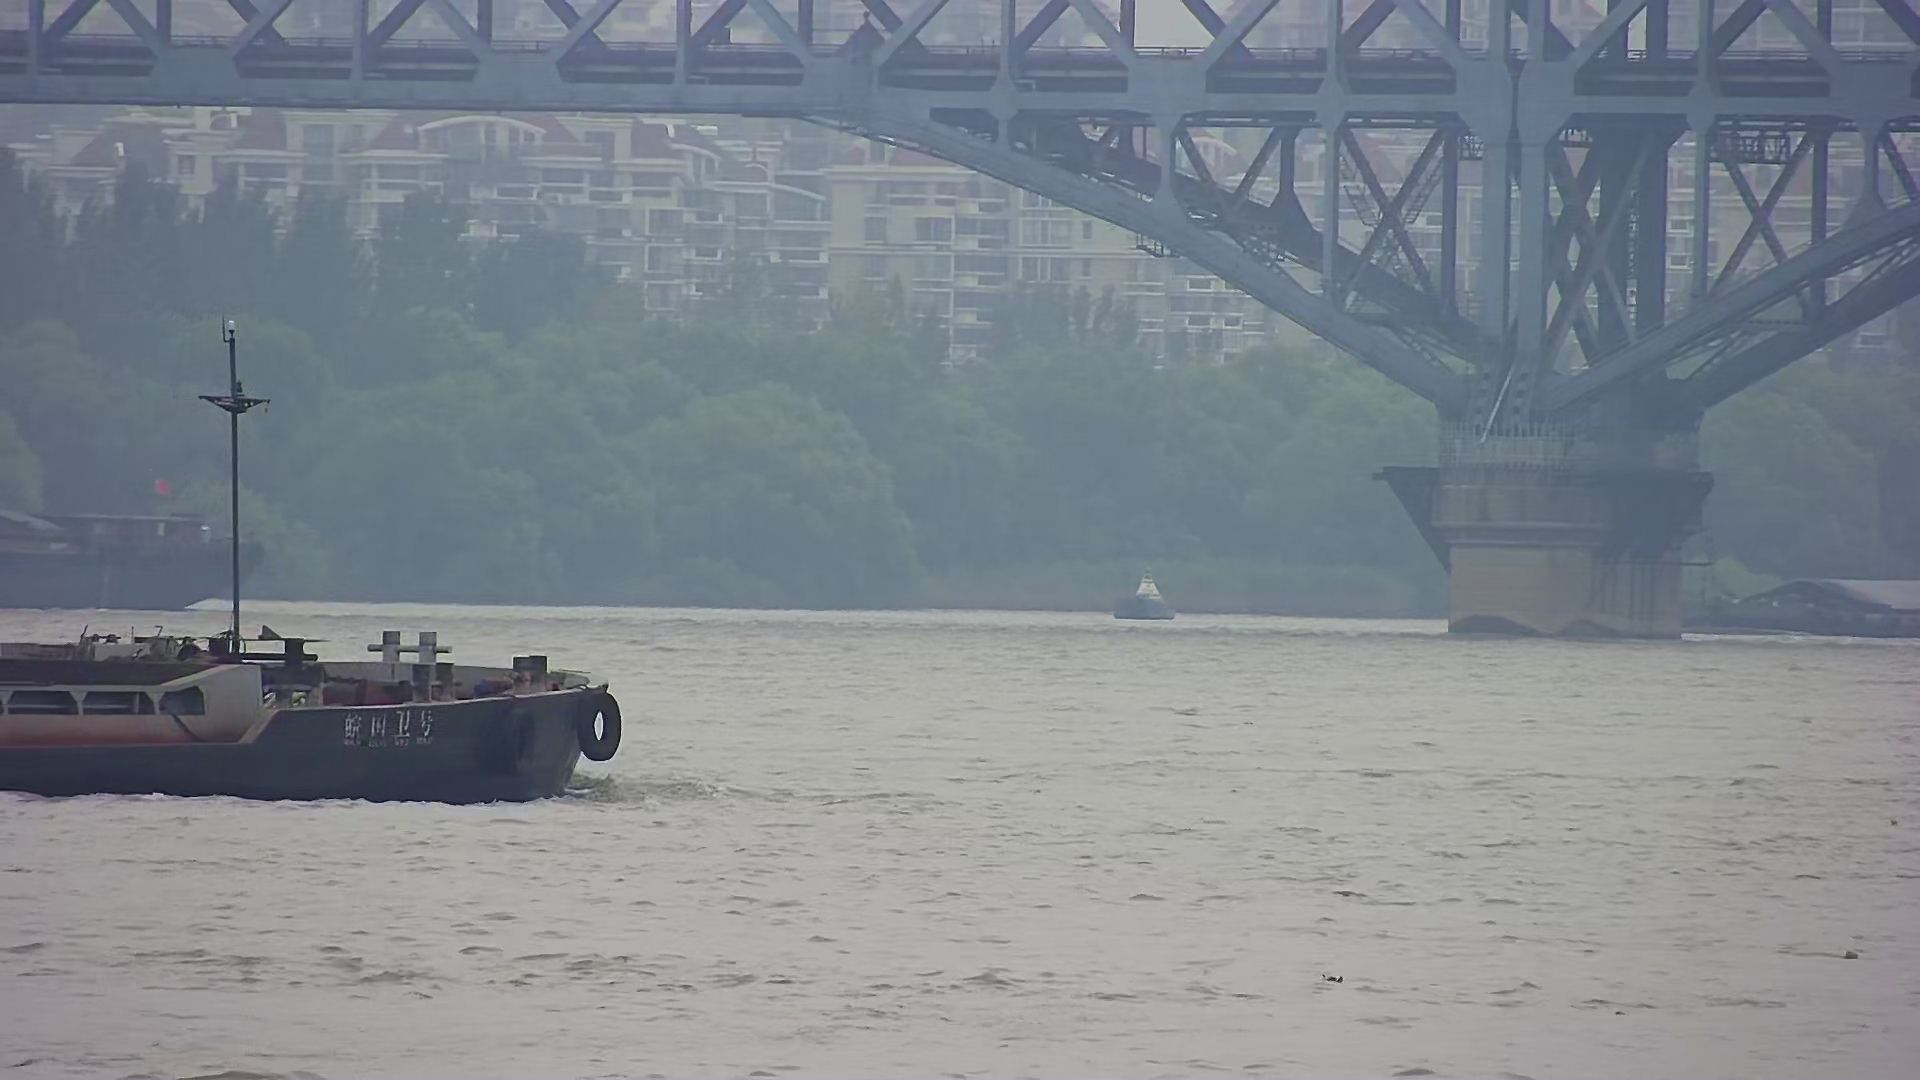boat: (1105, 553, 1193, 629)
bridge: (1, 1, 1903, 644)
ship: (1, 311, 630, 810), (1, 472, 305, 608)
